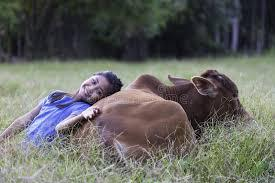cow: (71, 70, 255, 169)
